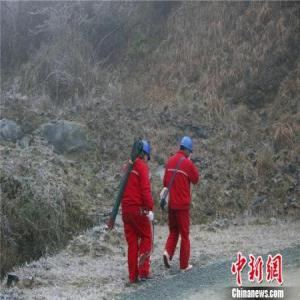blue: (137, 141, 152, 166), (180, 135, 194, 159)
